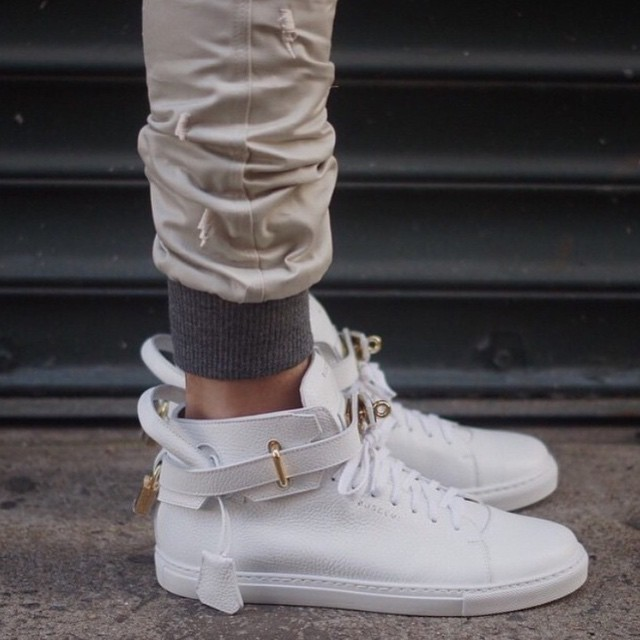sneaker: (114, 333, 615, 627), (131, 291, 588, 530)
